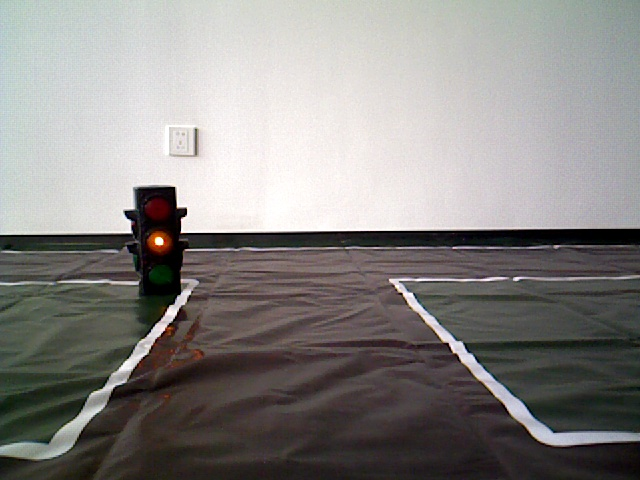yellow: (127, 186, 186, 292)
